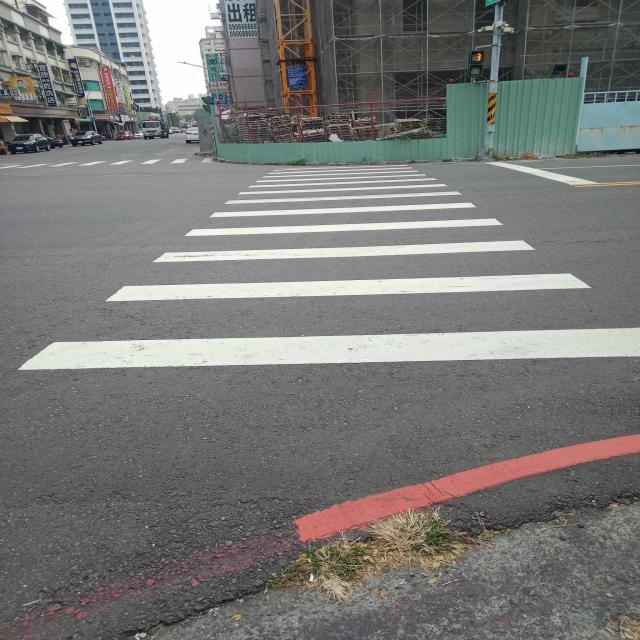zebra_crossing: (0, 85, 116, 248), (269, 0, 294, 356)
